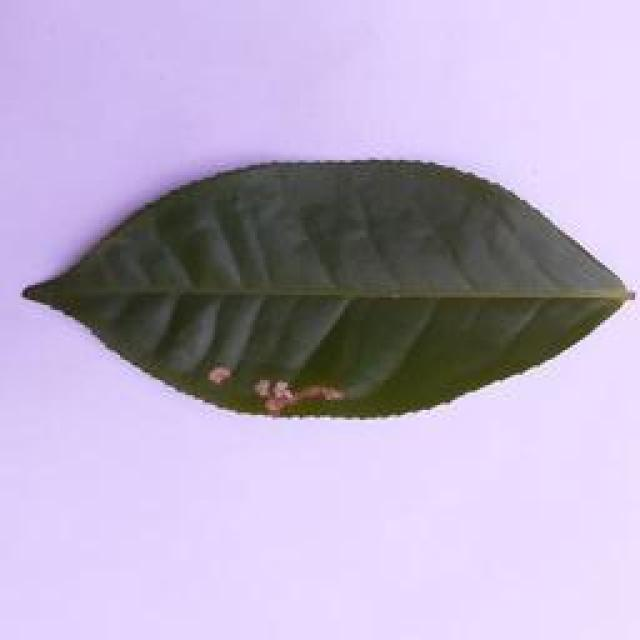Gray Blight: (18, 158, 640, 424)
